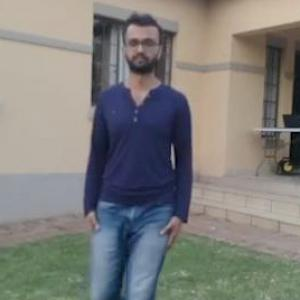follow: (87, 16, 196, 299)
